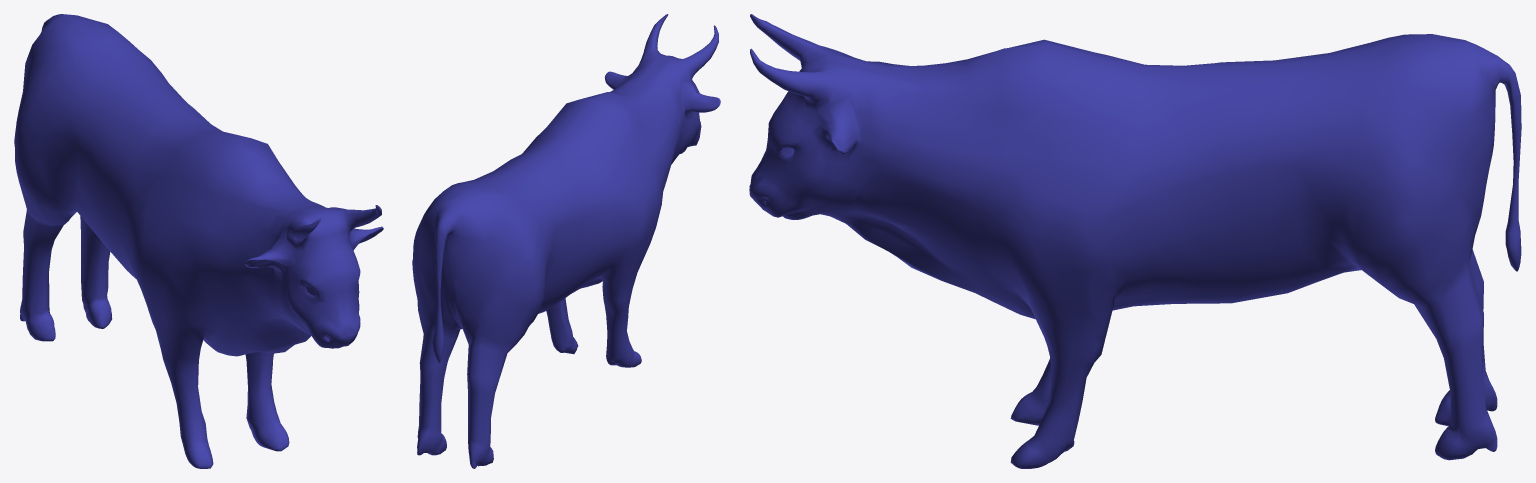
3 views of the same model, side by side, from view 1: azimuth 30°, elevation 25°; view 2: azimuth 150°, elevation 25°; view 3: azimuth 270°, elevation 25° (orthographic). The views are drawn at different scales.
Parts seen in each view (by area): view 1: polySurface4; view 2: polySurface4; view 3: polySurface4.
Part boxes in pixels (<box>): polySurface4: <box>14,14,383,468</box>; polySurface4: <box>412,14,720,468</box>; polySurface4: <box>749,14,1521,468</box>.
Size of the model in its own units: 6 by 12.1 by 20.6.
